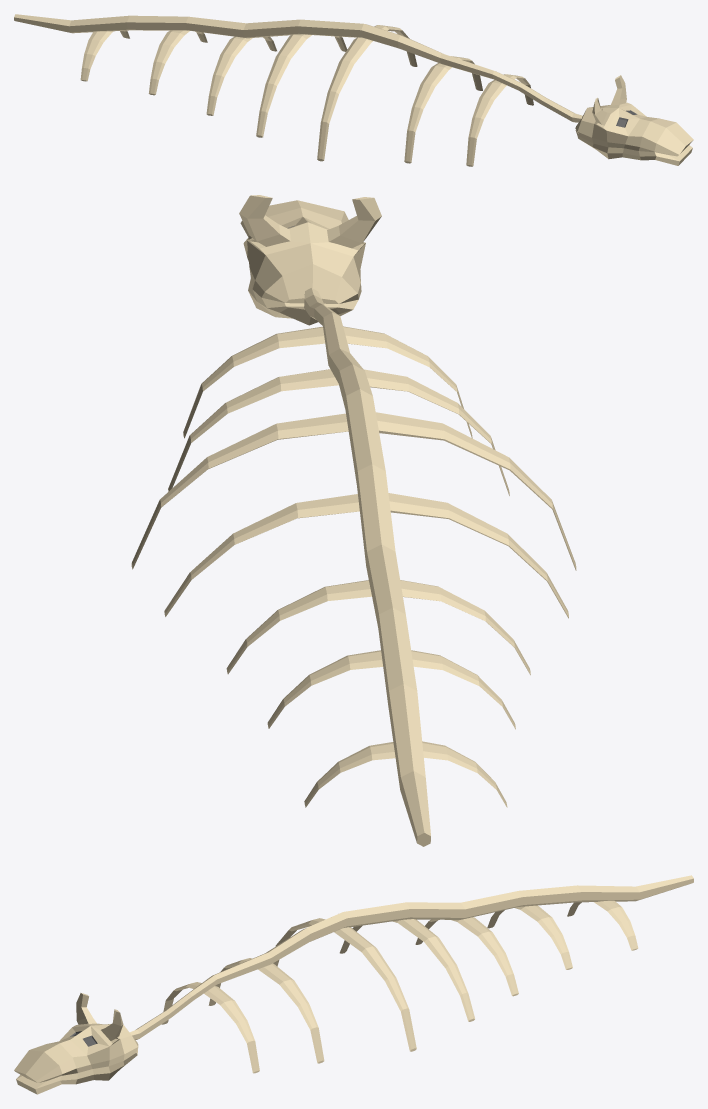
The model's file is Skeleton.fbx.
3 views of the same model, one above another, from view 1: azimuth 30°, elevation 25°; view 2: azimuth 150°, elevation 25°; view 3: azimuth 270°, elevation 25° (orthographic). The views are drawn at different scales.
Parts seen in each view (by area): view 1: M_Skeleton; view 2: M_Skeleton; view 3: M_Skeleton.
Boxes of the visible parts, <box> form: M_Skeleton: <box>14,14,693,166</box>; M_Skeleton: <box>131,195,576,846</box>; M_Skeleton: <box>14,875,693,1094</box>.
Bounding box in the file's own units: 107 × 25.5 × 149.
1 material, 1 textured.
